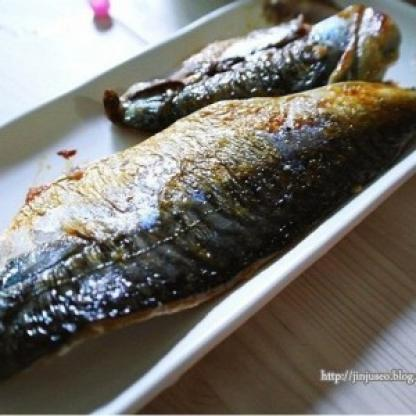Peixe: (0, 0, 416, 351)
